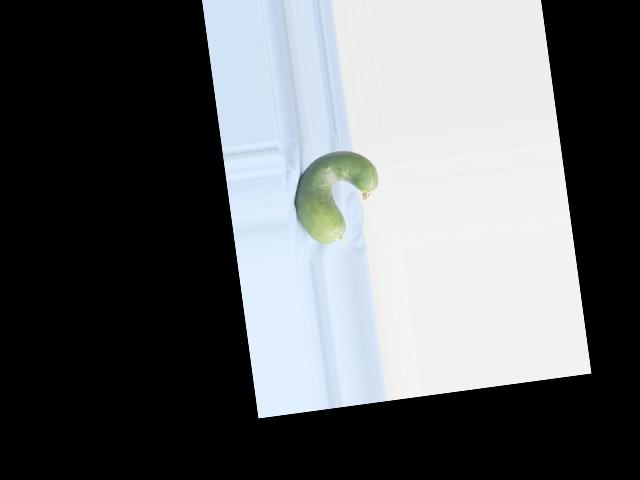cucumber: (288, 146, 386, 248)
